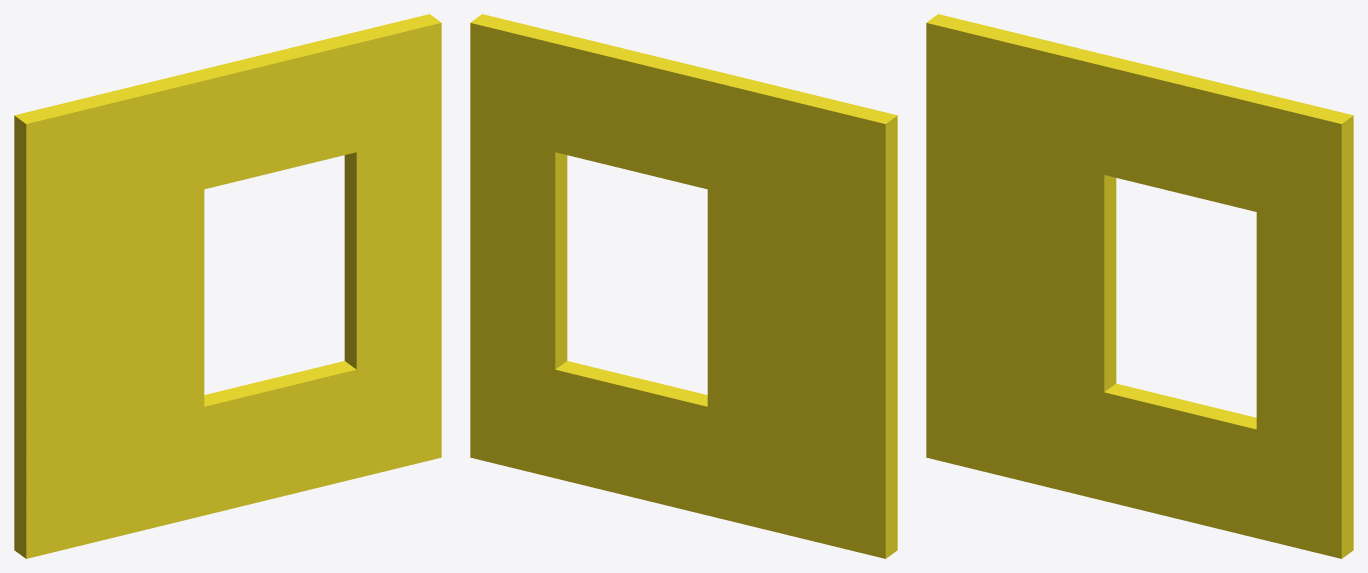
File: Wal_8_D.fbx
3 renders of one model, left to right at view 1: azimuth 30°, elevation 25°; view 2: azimuth 150°, elevation 25°; view 3: azimuth 330°, elevation 25°, orthographic.
Visible parts, largest first — view 1: pCube74; view 2: pCube74; view 3: pCube74.
Boxes of the visible parts, box(x1,y1,x2,y2) form: pCube74: box(14, 14, 441, 558); pCube74: box(470, 14, 897, 558); pCube74: box(926, 14, 1353, 558).
Bounding box in the file's own units: 4 × 4 × 0.2.
Materials: 1 (1 with a texture image).
